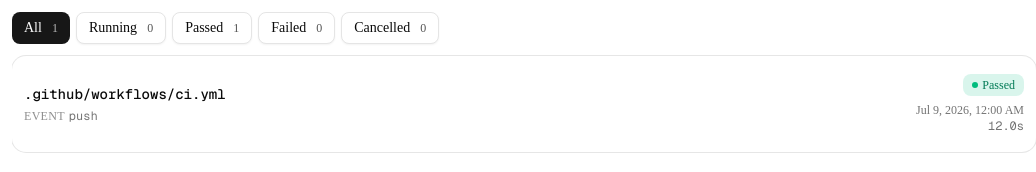
Test case: RunHistoryList › renders a filter empty state when no run matches the active filter
Click the button with test id "filter-failed" at [297, 28], box x1=258 y1=12 x2=335 y2=44
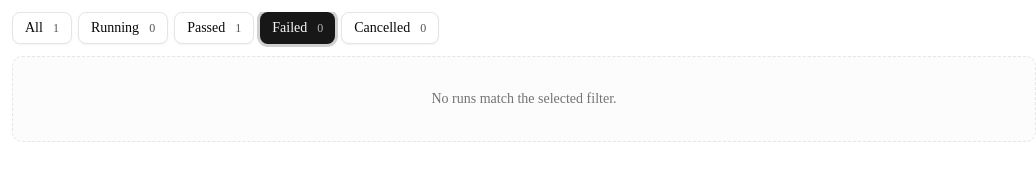
Check: the text "No runs match the selected filter." is shown, box x1=12 y1=56 x2=1035 y2=142
